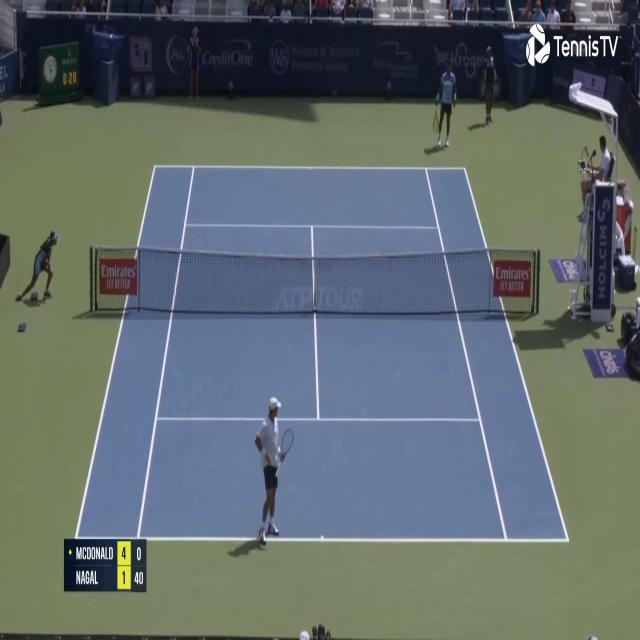tennis-player: (252, 394, 292, 551), (433, 57, 457, 150)
